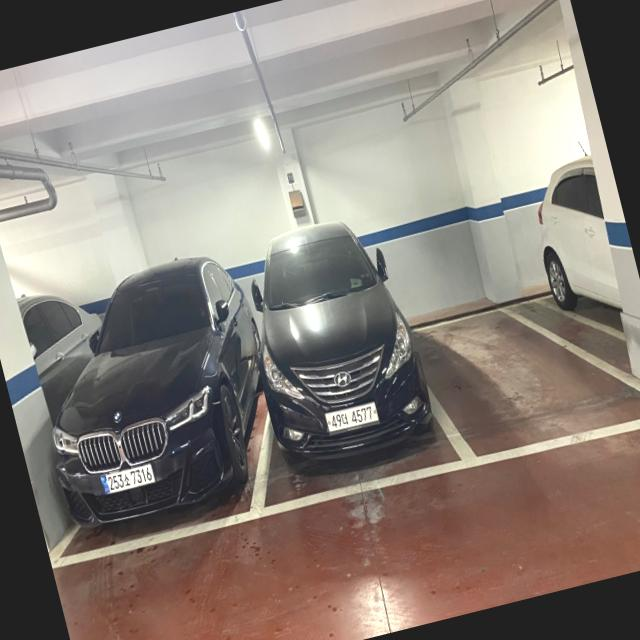car: (23, 240, 282, 538), (226, 209, 447, 507)
free: (401, 268, 640, 478)
